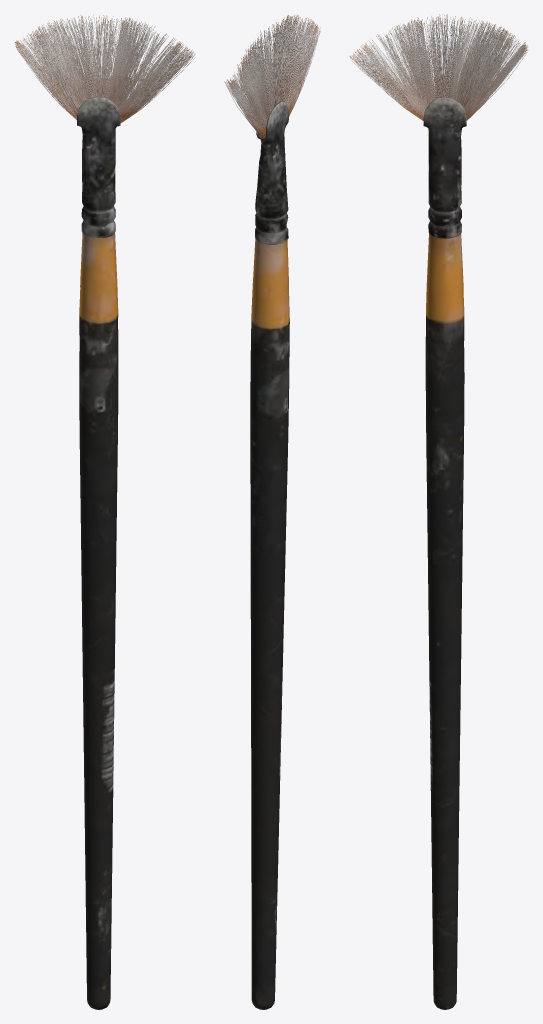
File: paintbrush-3.glb
3 renders of one model, left to right at view 1: azimuth 90°, elevation 25°; view 2: azimuth 150°, elevation 25°; view 3: azimuth 270°, elevation 25°, orthographic.
Visible parts, largest first — view 1: brush_01_mesh_00; view 2: brush_01_mesh_00; view 3: brush_01_mesh_00.
Boxes of the visible parts, x1,y1,x2,y2 form: brush_01_mesh_00: [14, 14, 195, 1009]; brush_01_mesh_00: [224, 15, 320, 1009]; brush_01_mesh_00: [349, 14, 527, 1009].
Bounding box in the file's own units: 0.00923 × 0.2537 × 0.0418.
Materials: 3 (3 with a texture image).
